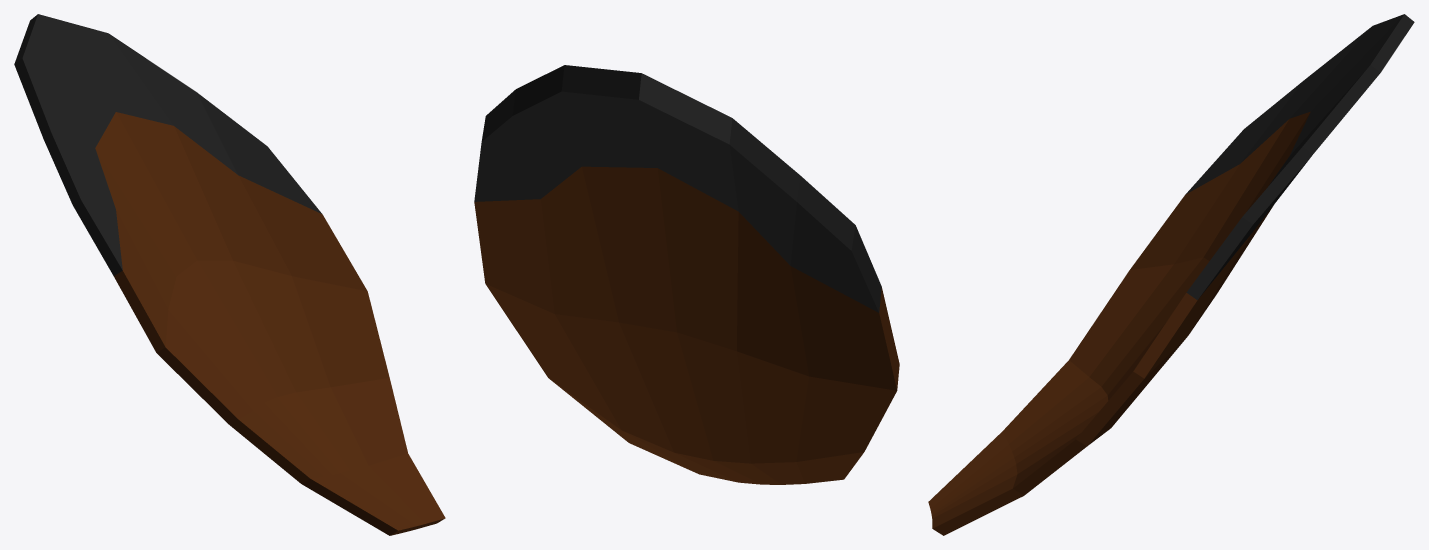
The model's file is Plumes.fbx.
3 views of the same model, side by side, from view 1: azimuth 30°, elevation 25°; view 2: azimuth 150°, elevation 25°; view 3: azimuth 270°, elevation 25° (orthographic). The views are drawn at different scales.
Parts seen in each view (by area): view 1: Cylinder.006; view 2: Cylinder.006; view 3: Cylinder.006.
Boxes of the visible parts, x1,y1,x2,y2 form: Cylinder.006: (14,14,445,535); Cylinder.006: (474,65,899,484); Cylinder.006: (928,14,1414,535).
Bounding box in the file's own units: 539 × 856 × 885.
